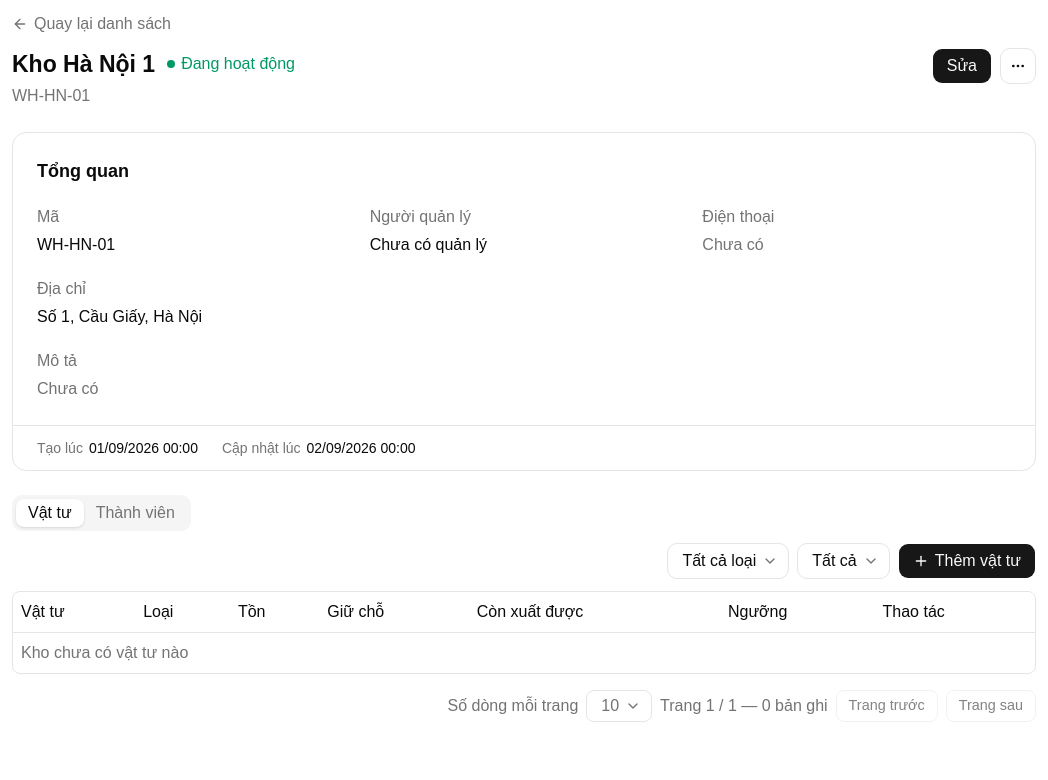
Test: WarehouseDetailPage — tab Vật tư | Thành viên › admin: có tablist "Nội dung kho" với 2 tab, Vật tư chọn sẵn; bấm Thành viên → ?tab=members
This screenshot has width=1048, height=780.
Click the tab "Thành viên".
click(135, 513)  # box [84, 499, 187, 527]
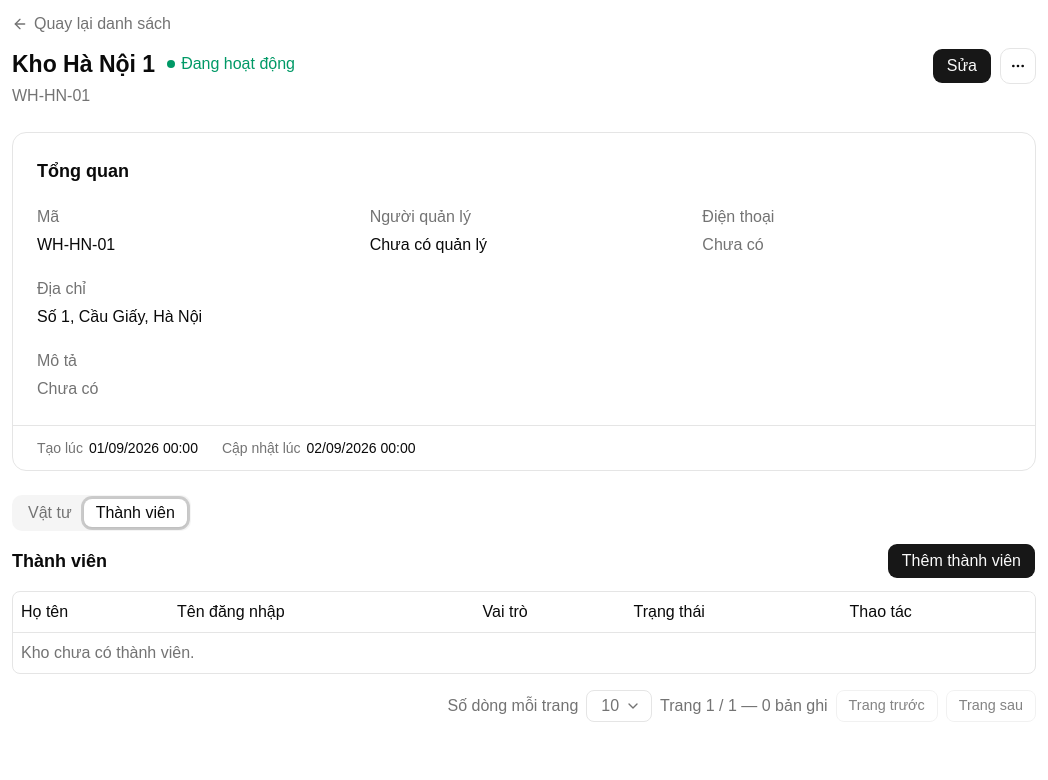
Expected: the heading "Thành viên" is shown, [12, 547, 107, 575]
